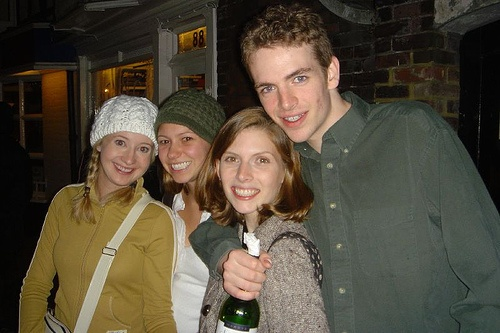head: (238, 1, 342, 145), (214, 108, 287, 218), (96, 108, 154, 198), (151, 100, 211, 186)
person: (228, 2, 497, 333), (18, 89, 175, 333), (189, 104, 327, 333), (148, 88, 228, 333)
